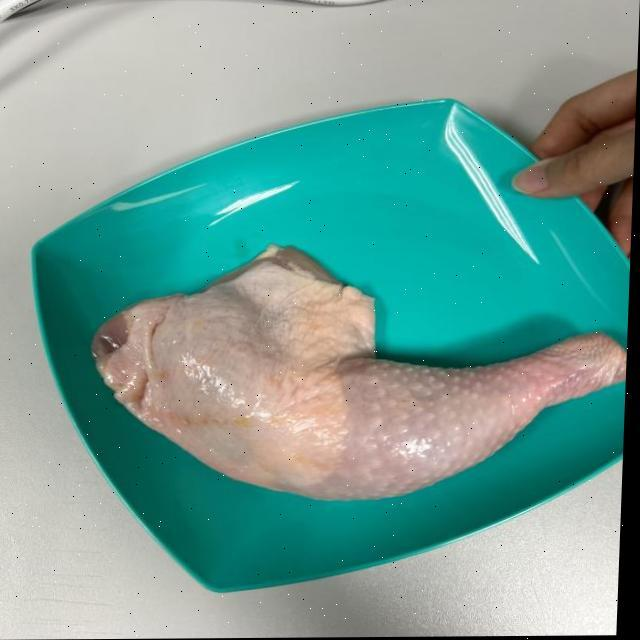quater: (90, 246, 630, 506)
